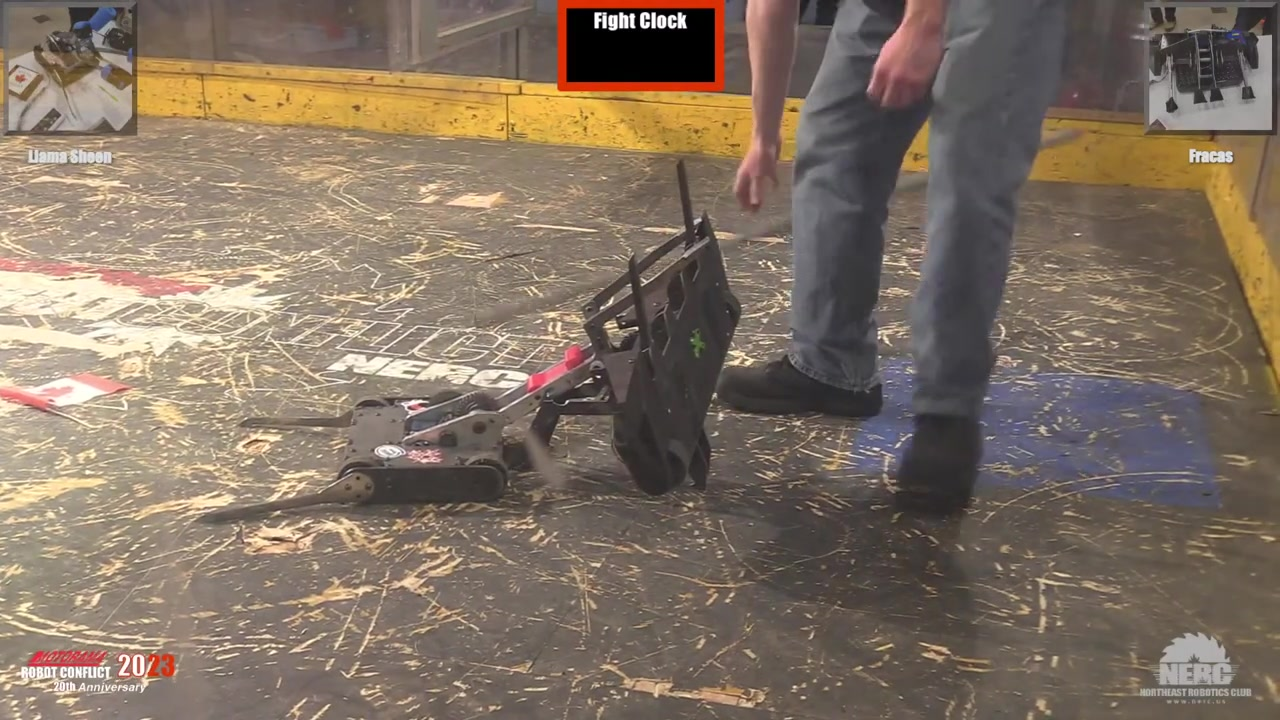combatbot: (613, 211, 742, 496), (346, 393, 508, 503)
